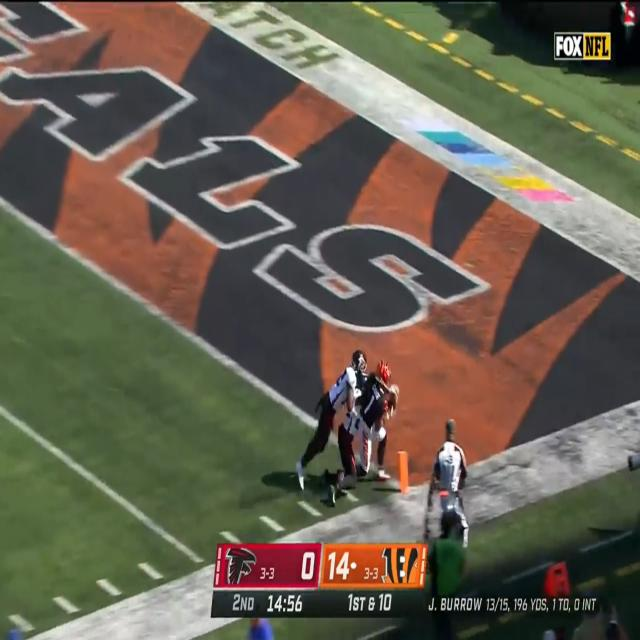Ball: (387, 387, 398, 412)
